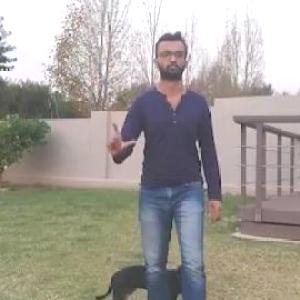land_hand: (103, 116, 138, 158)
